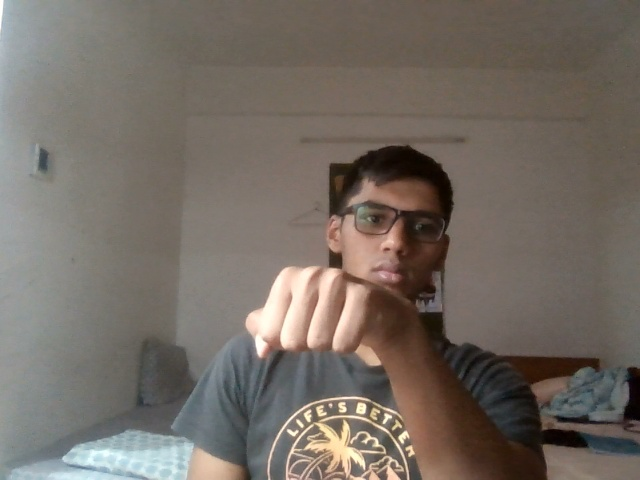yes: (220, 263, 422, 372)
